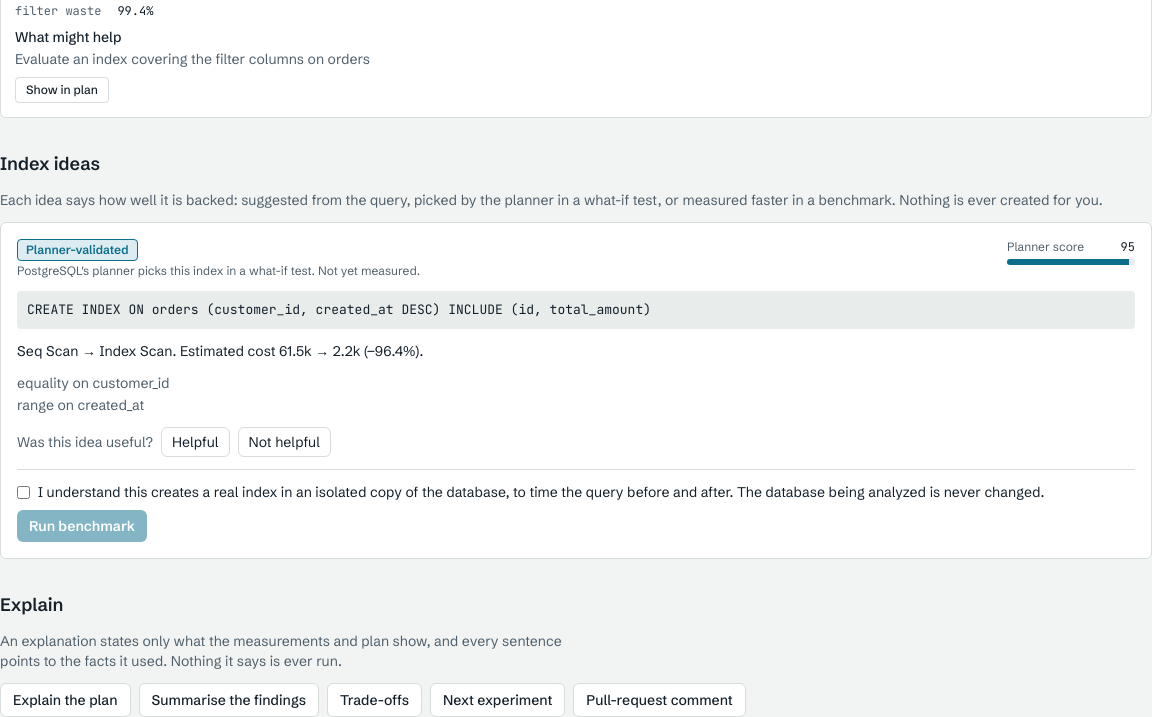
AnalysisResult › benchmarks › approves a benchmark only after confirmation, then shows it waiting and refreshes later
(page scrolled)
Click the checkbox labelled "real index in an isolated copy". click: (24, 492)
box: [17,486,30,499]
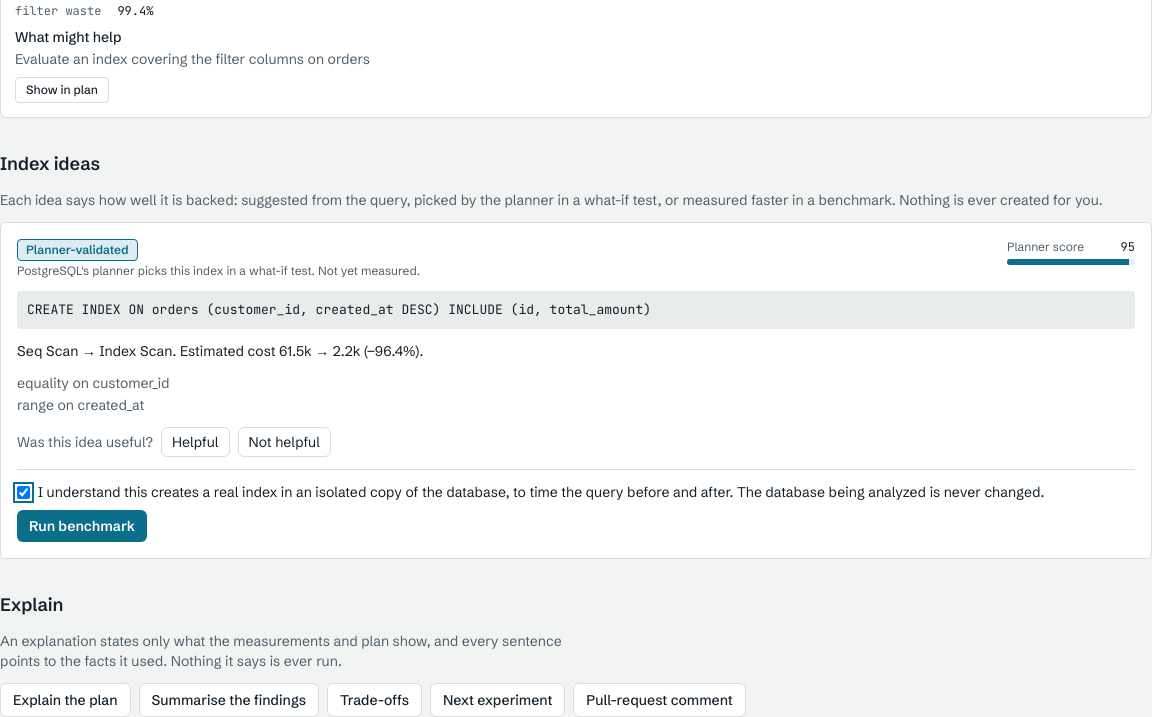
Click the button "Run benchmark". click: (82, 526)
box: [17,510,147,542]
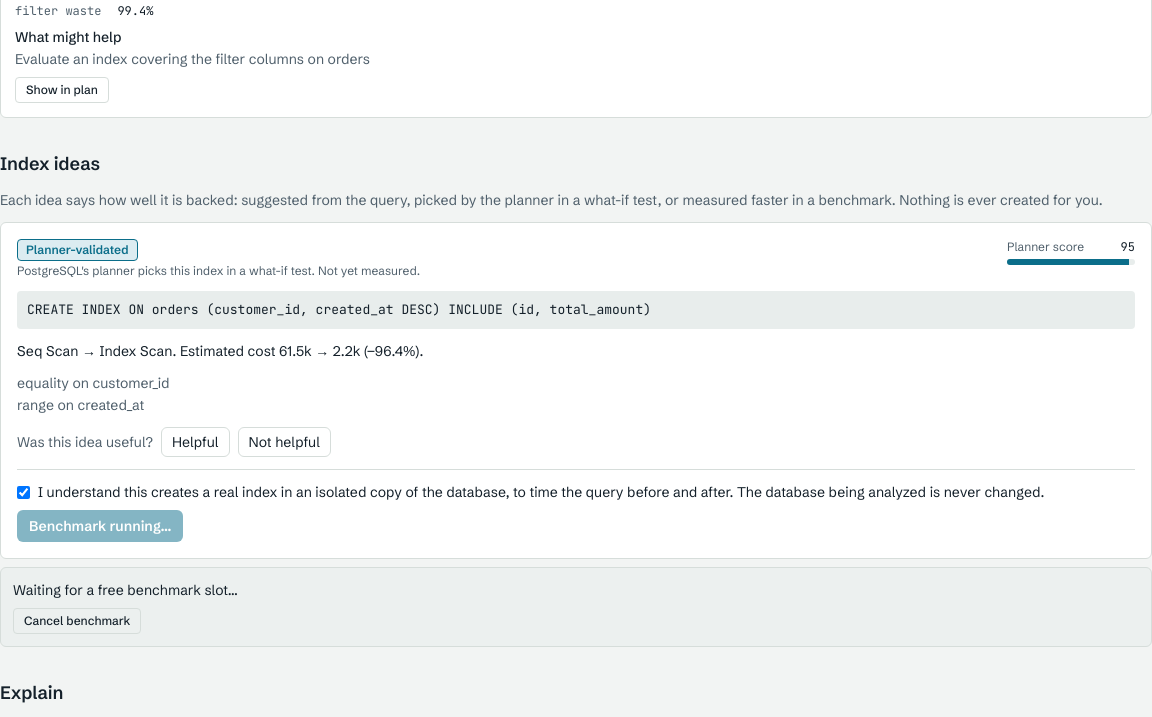
Expected: the text "Waiting for a free benchmark slot…" is shown, [13,581,238,599]
